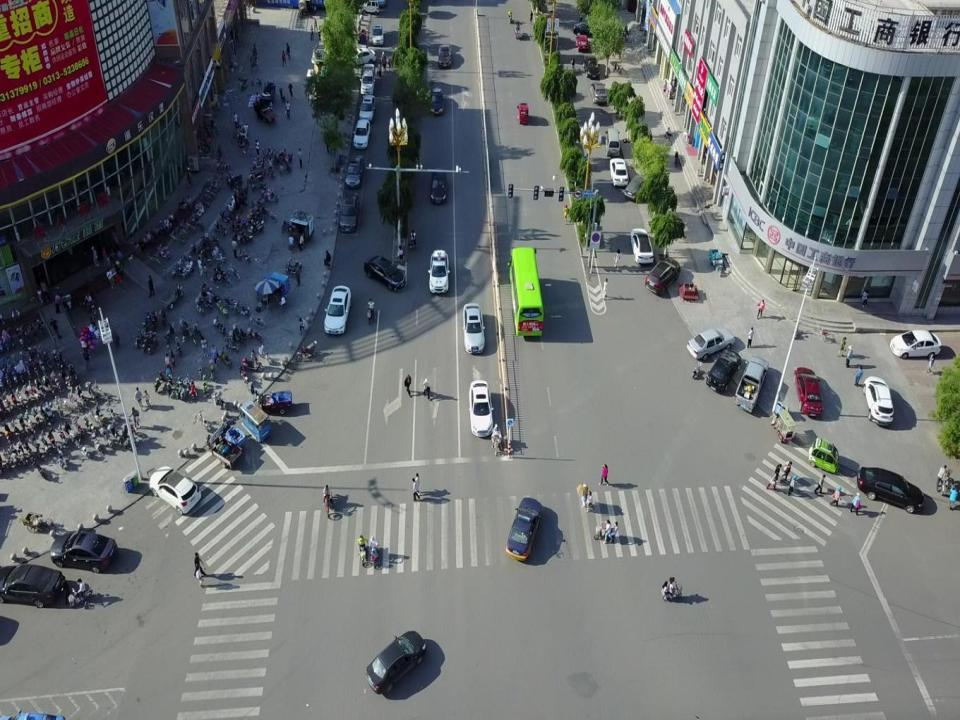bus: (507, 246, 544, 337)
car: (366, 628, 426, 693), (857, 466, 923, 514), (0, 564, 62, 609), (49, 532, 117, 573), (148, 466, 201, 514), (506, 497, 542, 561), (889, 329, 941, 360), (862, 376, 894, 426), (687, 329, 735, 362), (707, 350, 741, 395), (364, 254, 405, 291), (794, 366, 822, 418), (644, 256, 680, 296), (470, 380, 494, 438), (324, 285, 351, 334), (462, 303, 484, 354), (428, 250, 450, 294), (629, 228, 653, 264), (625, 172, 653, 202), (339, 194, 358, 232), (344, 46, 376, 66), (344, 156, 364, 187), (430, 168, 447, 204), (609, 158, 628, 187), (353, 120, 370, 150), (428, 86, 444, 114), (574, 20, 601, 36), (358, 94, 374, 121), (583, 55, 600, 79), (590, 81, 607, 103), (437, 44, 451, 68), (371, 25, 383, 45), (362, 0, 379, 14), (576, 35, 589, 51)
truck: (734, 355, 769, 412)
van: (360, 64, 376, 94), (605, 128, 620, 156), (516, 102, 528, 125)
